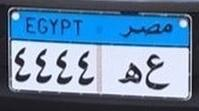4: (33, 47, 53, 87), (54, 46, 74, 85), (13, 43, 32, 84), (76, 48, 95, 87)
ain: (145, 53, 171, 92)
haa: (116, 60, 143, 87)
